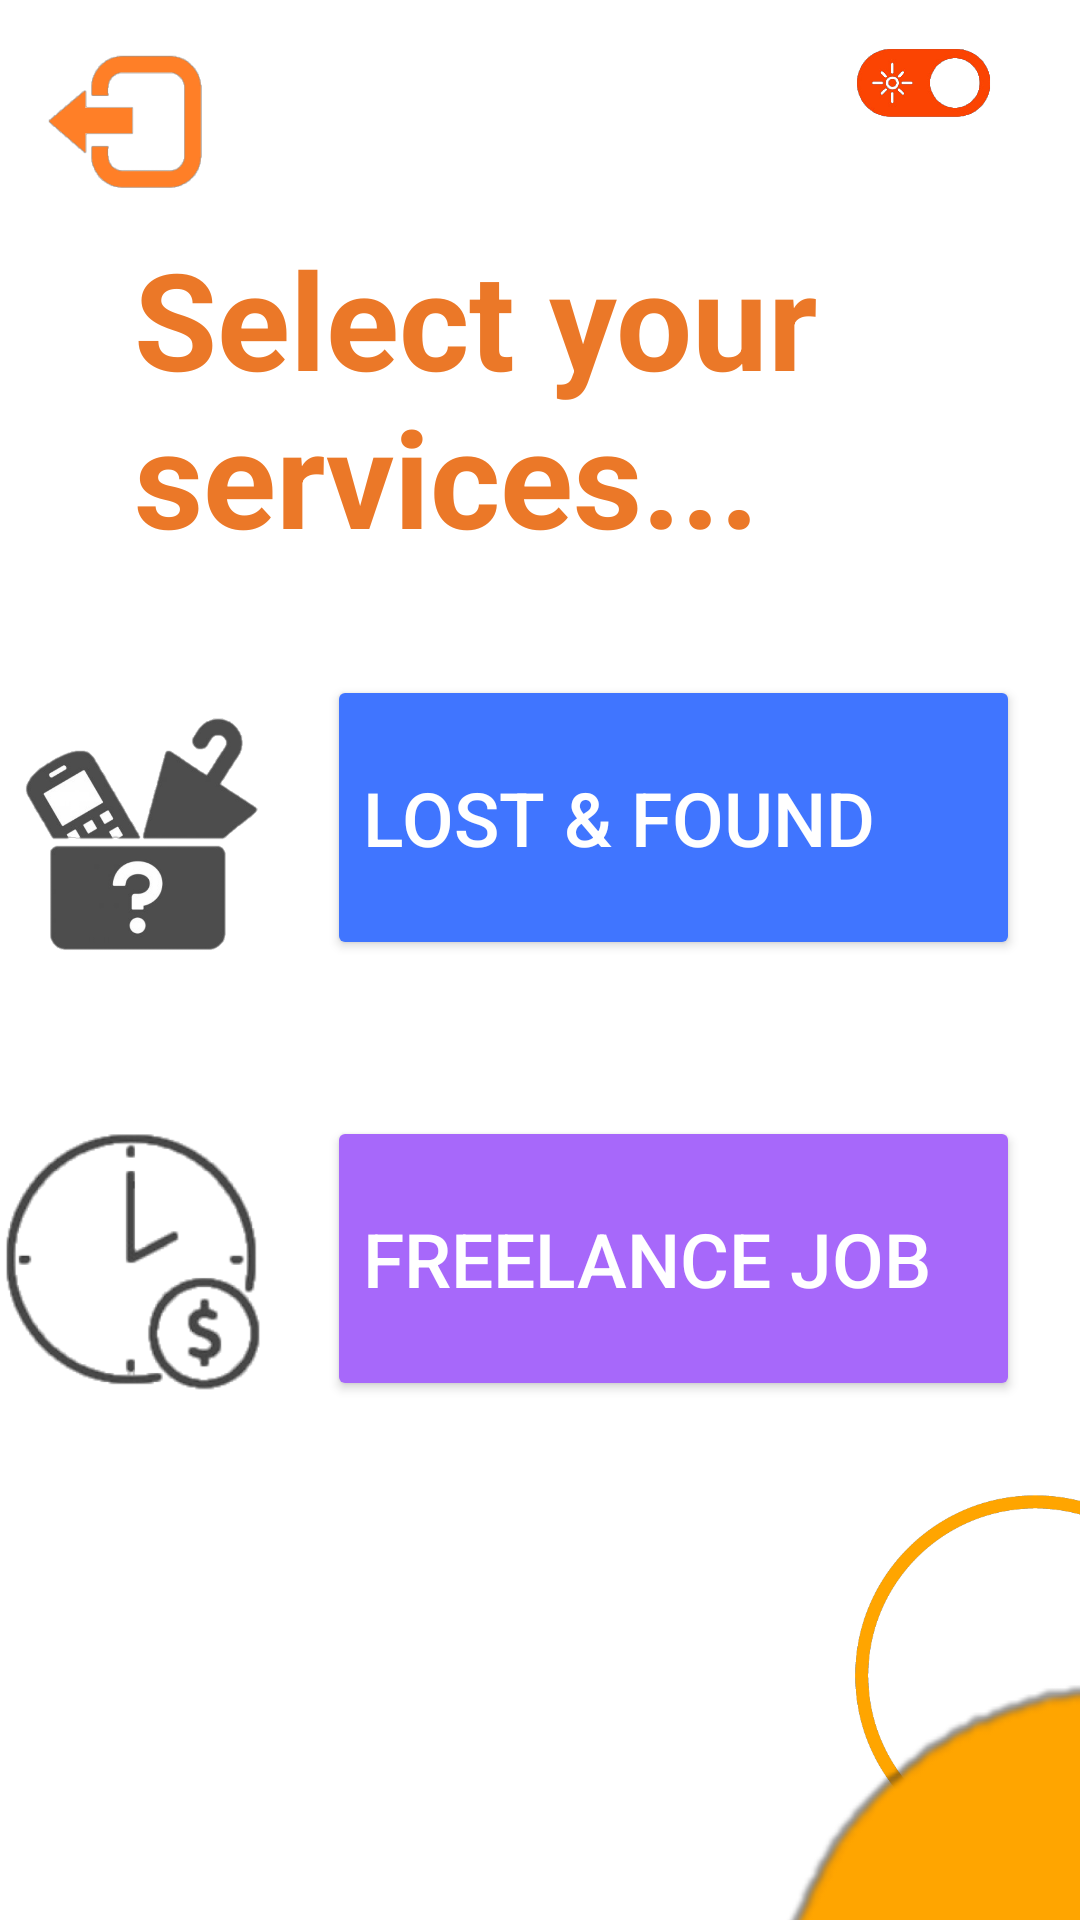

Icon bounding boxes for this 1080w x 1920h phone screenshot, format rect(x1, y1, x2, y2):
lightmode: rect(857, 49, 990, 117)
lostandfound: rect(26, 718, 258, 950)
parttime: rect(6, 1134, 260, 1390)
